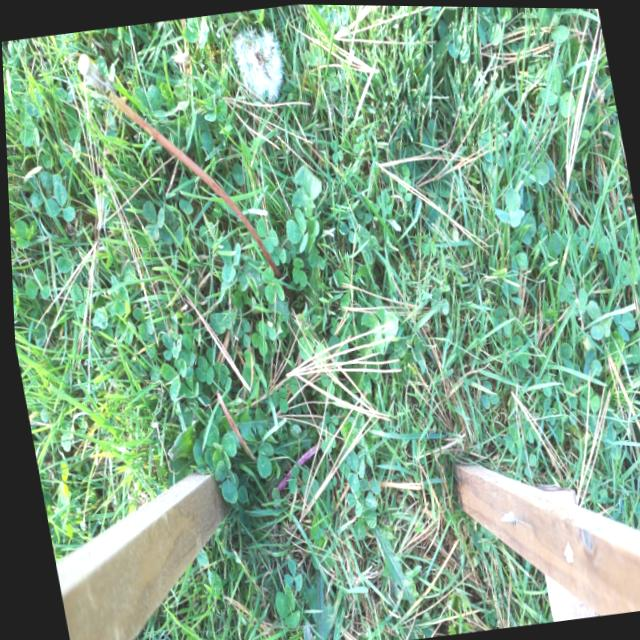base: (257, 241, 285, 288)
